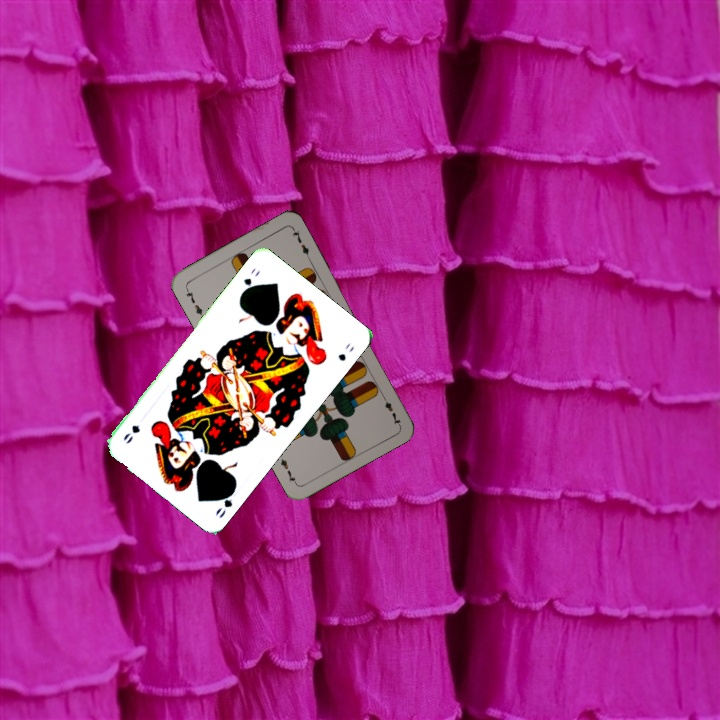E7: (181, 283, 206, 321), (378, 390, 403, 428)
GO: (211, 483, 239, 521), (237, 264, 263, 298)
